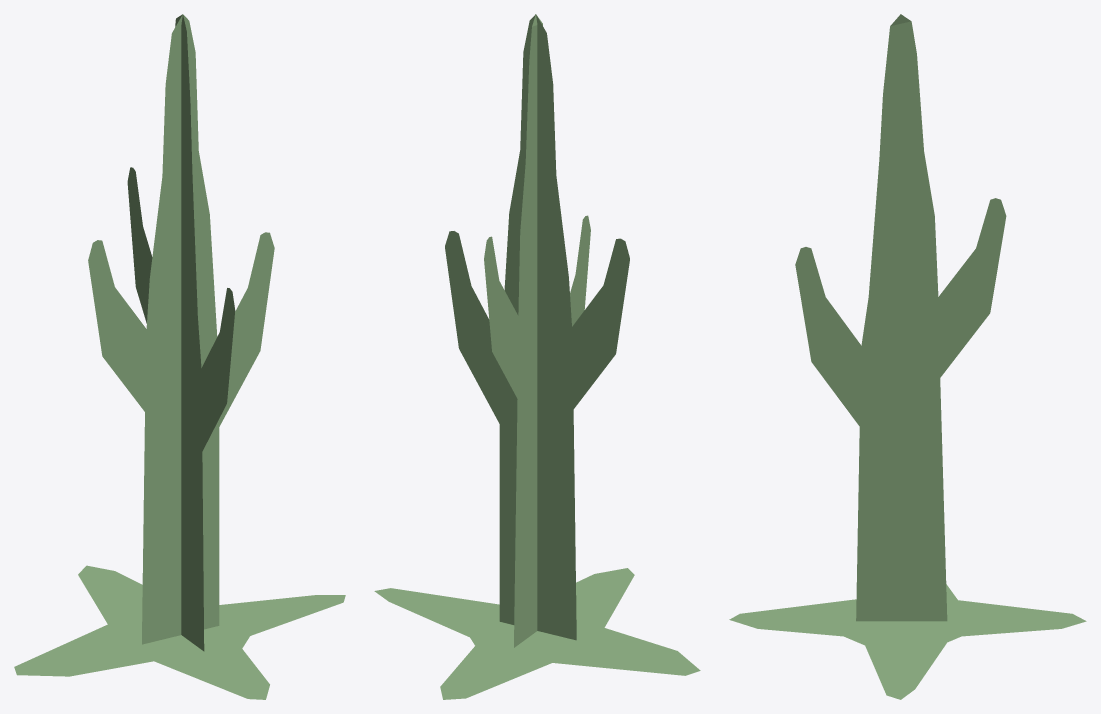
Rendered from cac3.glb.
3 renders of one model, left to right at view 1: azimuth 30°, elevation 25°; view 2: azimuth 150°, elevation 25°; view 3: azimuth 270°, elevation 25°, orthographic. The views are drawn at different scales.
Visible parts, largest first — view 1: cac3; view 2: cac3; view 3: cac3.
Boxes of the visible parts, x1,y1,x2,y2 form: cac3: (14,14,345,699); cac3: (374,14,700,699); cac3: (729,14,1086,699).
Size of the model in its own units: 2.08 by 3.75 by 2.
